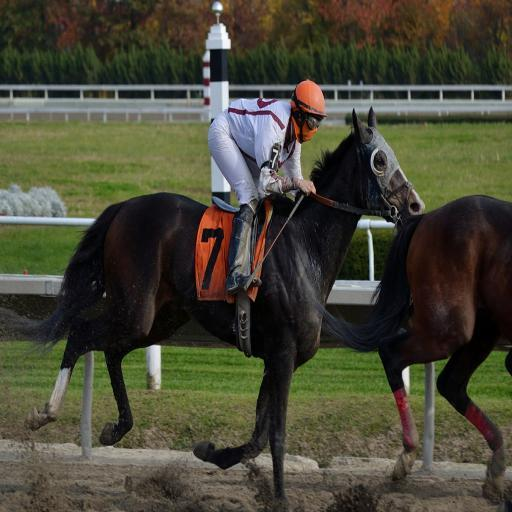horse: (8, 105, 427, 512), (302, 190, 512, 508)
